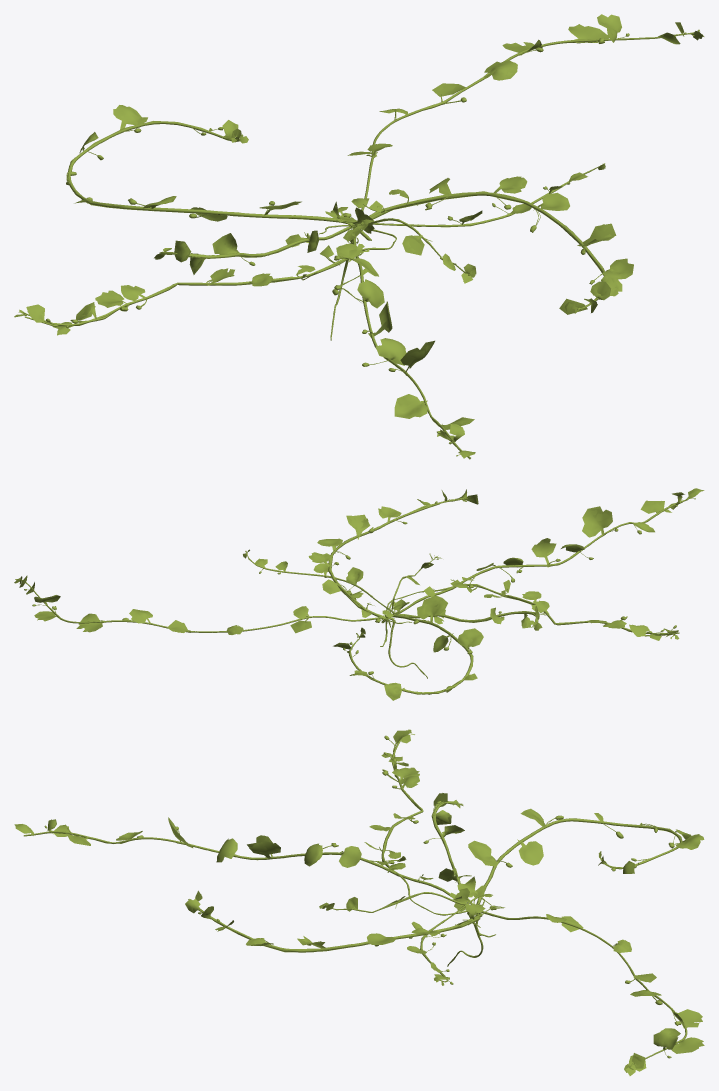
3 views of the same model, one above another, from view 1: azimuth 30°, elevation 25°; view 2: azimuth 150°, elevation 25°; view 3: azimuth 270°, elevation 25° (orthographic). The views are drawn at different scales.
Parts seen in each view (by area): view 1: VeronicaHederifolia_8mqpa_Big_lod0_OL.003_L_data.blend, VeronicaHederifolia_8mqpa_Big_lod2_OL.003_L_data.blend, VeronicaHederifolia_8mqpa_Big_lod0_OL.001_L_data.blend, VeronicaHederifolia_8mqpa_Big_lod0_OL.002_L_data.blend, VeronicaHederifolia_8mqpa_Big_lod0_OL_L_data.blend, VeronicaHederifolia_8mqpa_Big_lod2_OL.001_L_data.blend, VeronicaHederifolia_8mqpa_Big_lod0_OL.004_L_data.blend, VeronicaHederifolia_8mqpa_Big_lod2_OL_L_data.blend, VeronicaHederifolia_8mqpa_Big_lod2_OL.002_L_data.blend, VeronicaHederifolia_8mqpa_Big_lod2_OL.004_L_data.blend; view 2: VeronicaHederifolia_8mqpa_Big_lod0_OL.001_L_data.blend, VeronicaHederifolia_8mqpa_Big_lod0_OL.003_L_data.blend, VeronicaHederifolia_8mqpa_Big_lod2_OL.001_L_data.blend, VeronicaHederifolia_8mqpa_Big_lod2_OL.002_L_data.blend, VeronicaHederifolia_8mqpa_Big_lod2_OL.003_L_data.blend, VeronicaHederifolia_8mqpa_Big_lod0_OL.002_L_data.blend, VeronicaHederifolia_8mqpa_Big_lod0_OL_L_data.blend, VeronicaHederifolia_8mqpa_Big_lod2_OL_L_data.blend, VeronicaHederifolia_8mqpa_Big_lod0_OL.004_L_data.blend, VeronicaHederifolia_8mqpa_Big_lod2_OL.004_L_data.blend; view 3: VeronicaHederifolia_8mqpa_Big_lod0_OL.001_L_data.blend, VeronicaHederifolia_8mqpa_Big_lod0_OL.002_L_data.blend, VeronicaHederifolia_8mqpa_Big_lod0_OL.003_L_data.blend, VeronicaHederifolia_8mqpa_Big_lod2_OL.003_L_data.blend, VeronicaHederifolia_8mqpa_Big_lod0_OL_L_data.blend, VeronicaHederifolia_8mqpa_Big_lod2_OL.001_L_data.blend, VeronicaHederifolia_8mqpa_Big_lod2_OL_L_data.blend, VeronicaHederifolia_8mqpa_Big_lod2_OL.002_L_data.blend, VeronicaHederifolia_8mqpa_Big_lod0_OL.004_L_data.blend, VeronicaHederifolia_8mqpa_Big_lod2_OL.004_L_data.blend.
Boxes of the visible parts, left/top/right/bottom form: VeronicaHederifolia_8mqpa_Big_lod0_OL.003_L_data.blend: left=154, top=176, right=626, bottom=313; VeronicaHederifolia_8mqpa_Big_lod2_OL.003_L_data.blend: left=154, top=176, right=633, bottom=314; VeronicaHederifolia_8mqpa_Big_lod0_OL.001_L_data.blend: left=66, top=105, right=605, bottom=240; VeronicaHederifolia_8mqpa_Big_lod0_OL.002_L_data.blend: left=332, top=219, right=474, bottom=458; VeronicaHederifolia_8mqpa_Big_lod0_OL_L_data.blend: left=330, top=14, right=701, bottom=340; VeronicaHederifolia_8mqpa_Big_lod2_OL.001_L_data.blend: left=66, top=105, right=604, bottom=239; VeronicaHederifolia_8mqpa_Big_lod0_OL.004_L_data.blend: left=15, top=225, right=396, bottom=334; VeronicaHederifolia_8mqpa_Big_lod2_OL_L_data.blend: left=330, top=14, right=704, bottom=336; VeronicaHederifolia_8mqpa_Big_lod2_OL.002_L_data.blend: left=332, top=219, right=475, bottom=459; VeronicaHederifolia_8mqpa_Big_lod2_OL.004_L_data.blend: left=14, top=225, right=395, bottom=335; VeronicaHederifolia_8mqpa_Big_lod0_OL.001_L_data.blend: left=244, top=550, right=482, bottom=697; VeronicaHederifolia_8mqpa_Big_lod0_OL.003_L_data.blend: left=309, top=489, right=541, bottom=646; VeronicaHederifolia_8mqpa_Big_lod2_OL.001_L_data.blend: left=243, top=549, right=483, bottom=700; VeronicaHederifolia_8mqpa_Big_lod2_OL.002_L_data.blend: left=391, top=488, right=704, bottom=614; VeronicaHederifolia_8mqpa_Big_lod2_OL.003_L_data.blend: left=308, top=489, right=542, bottom=646; VeronicaHederifolia_8mqpa_Big_lod0_OL.002_L_data.blend: left=390, top=488, right=702, bottom=614; VeronicaHederifolia_8mqpa_Big_lod0_OL_L_data.blend: left=15, top=577, right=427, bottom=678; VeronicaHederifolia_8mqpa_Big_lod2_OL_L_data.blend: left=14, top=575, right=426, bottom=676; VeronicaHederifolia_8mqpa_Big_lod0_OL.004_L_data.blend: left=386, top=580, right=678, bottom=639; VeronicaHederifolia_8mqpa_Big_lod2_OL.004_L_data.blend: left=387, top=580, right=679, bottom=640; VeronicaHederifolia_8mqpa_Big_lod0_OL.001_L_data.blend: left=407, top=809, right=703, bottom=985; VeronicaHederifolia_8mqpa_Big_lod0_OL.002_L_data.blend: left=16, top=818, right=465, bottom=907; VeronicaHederifolia_8mqpa_Big_lod0_OL.003_L_data.blend: left=185, top=793, right=502, bottom=952; VeronicaHederifolia_8mqpa_Big_lod2_OL.003_L_data.blend: left=185, top=793, right=504, bottom=952; VeronicaHederifolia_8mqpa_Big_lod0_OL_L_data.blend: left=447, top=911, right=702, bottom=1073; VeronicaHederifolia_8mqpa_Big_lod2_OL.001_L_data.blend: left=407, top=808, right=704, bottom=985; VeronicaHederifolia_8mqpa_Big_lod2_OL_L_data.blend: left=448, top=911, right=704, bottom=1075; VeronicaHederifolia_8mqpa_Big_lod2_OL.002_L_data.blend: left=14, top=817, right=465, bottom=909; VeronicaHederifolia_8mqpa_Big_lod0_OL.004_L_data.blend: left=365, top=732, right=484, bottom=915; VeronicaHederifolia_8mqpa_Big_lod2_OL.004_L_data.blend: left=364, top=729, right=483, bottom=915.
Bounding box in the file's own units: 33.44 × 5.54 × 29.8.
